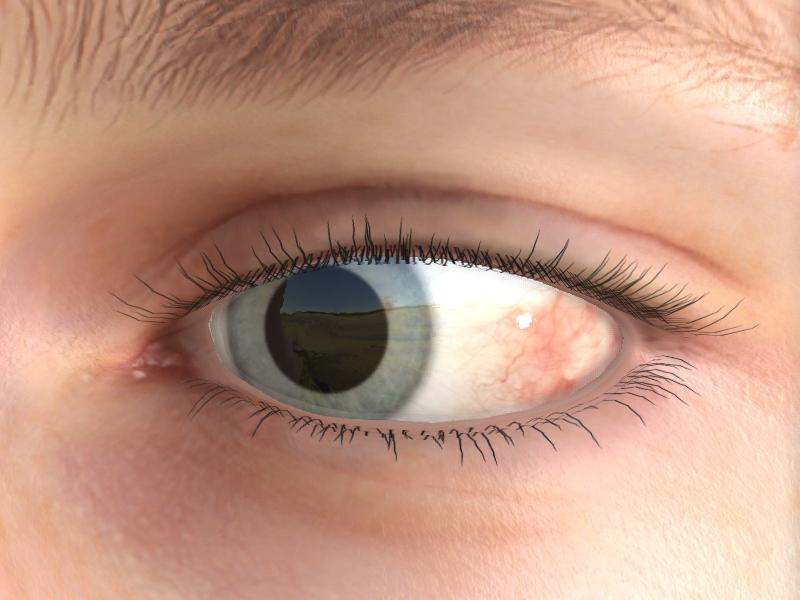eye: (231, 253, 433, 423)
